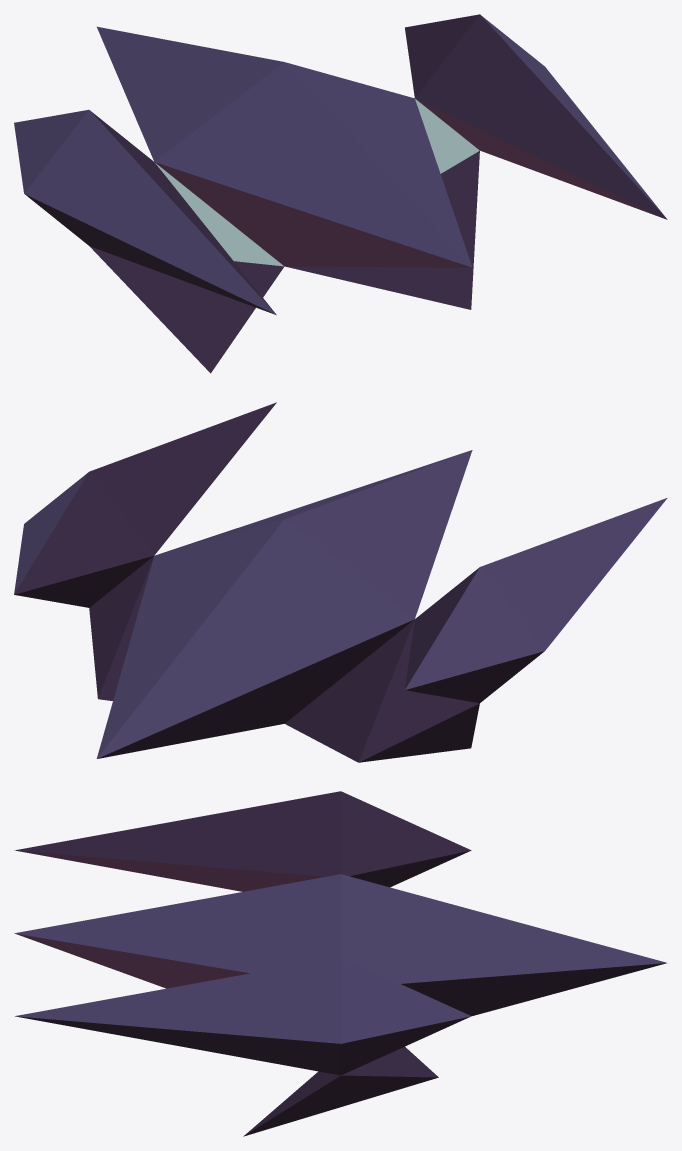
File: Ship_1.glb
3 views of the same model, one above another, from view 1: azimuth 30°, elevation 25°; view 2: azimuth 150°, elevation 25°; view 3: azimuth 270°, elevation 25° (orthographic). The views are drawn at different scales.
Parts seen in each view (by area): view 1: Enemy_1; view 2: Enemy_1; view 3: Enemy_1.
Boxes of the visible parts, x1,y1,x2,y2 form: Enemy_1: [14, 14, 667, 373]; Enemy_1: [14, 402, 667, 762]; Enemy_1: [14, 791, 666, 1136].
Size of the model in its own units: 1.6 by 0.7 by 2.
1 material, 1 textured.
